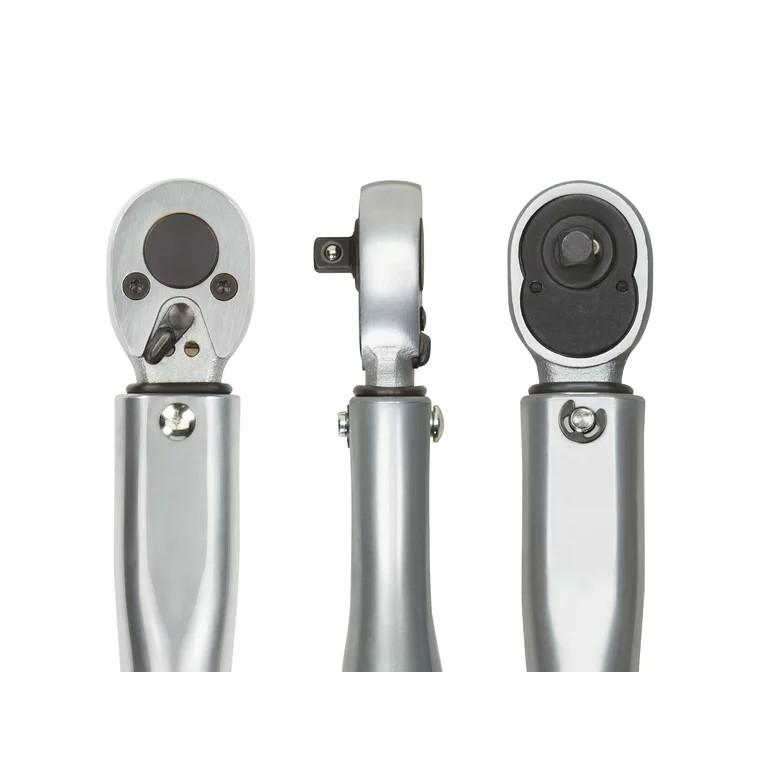Tool: (98, 168, 264, 394)
